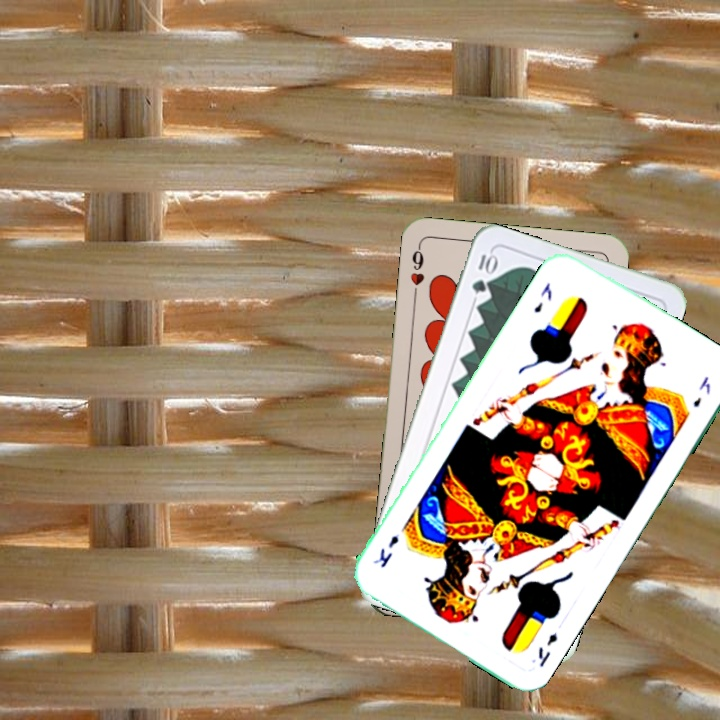EK: (534, 629, 560, 670), (529, 278, 555, 316)
G10: (467, 248, 499, 296)
H9: (406, 241, 427, 300)
